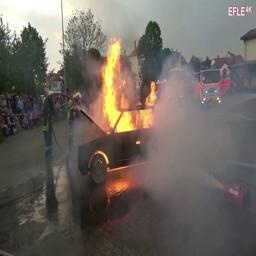fire: (78, 40, 168, 188)
